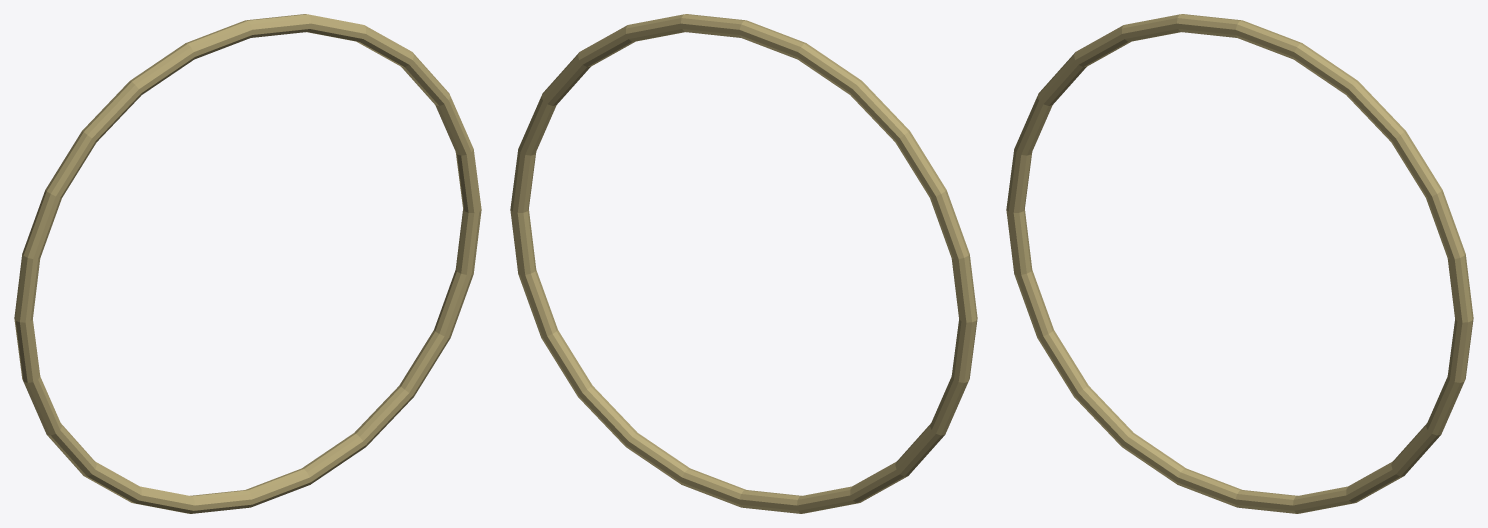
Rendered from dev-test-chain.glb.
The picture shows the model from 3 angles, left to right: view 1: azimuth 30°, elevation 25°; view 2: azimuth 150°, elevation 25°; view 3: azimuth 330°, elevation 25°; orthographic projection.
Visible parts, largest first — view 1: chain; view 2: chain; view 3: chain.
Boxes of the visible parts, x1,y1,x2,y2 form: chain: [14, 14, 481, 513]; chain: [510, 14, 977, 513]; chain: [1006, 14, 1473, 513].
Bounding box in the file's own units: 1.04 × 1.04 × 0.0342.
